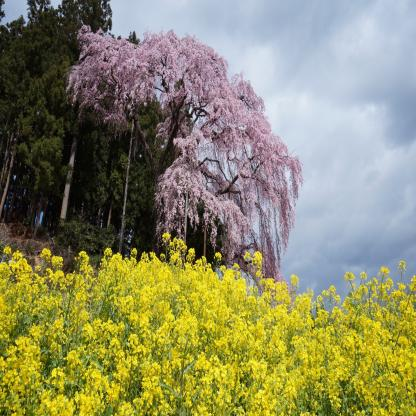ShidareZakura: (67, 24, 306, 305)
